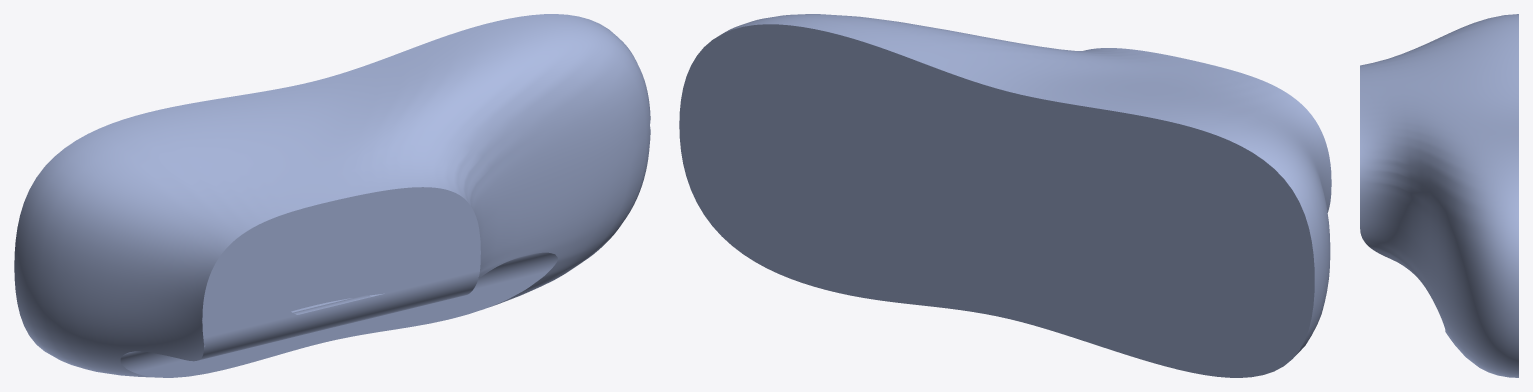
The model's file is 小原子右脚.glb.
3 views of the same model, side by side, from view 1: azimuth 30°, elevation 25°; view 2: azimuth 150°, elevation 25°; view 3: azimuth 270°, elevation 25° (orthographic). The views are drawn at different scales.
Parts seen in each view (by area): view 1: NONE_8.002; view 2: NONE_8.002; view 3: NONE_8.002.
Part boxes in pixels (bbox=[...]): NONE_8.002: bbox=[14, 14, 650, 377]; NONE_8.002: bbox=[679, 14, 1331, 377]; NONE_8.002: bbox=[1360, 14, 1518, 377].
Size of the model in its own units: 0.181 by 0.0703 by 0.0511.
